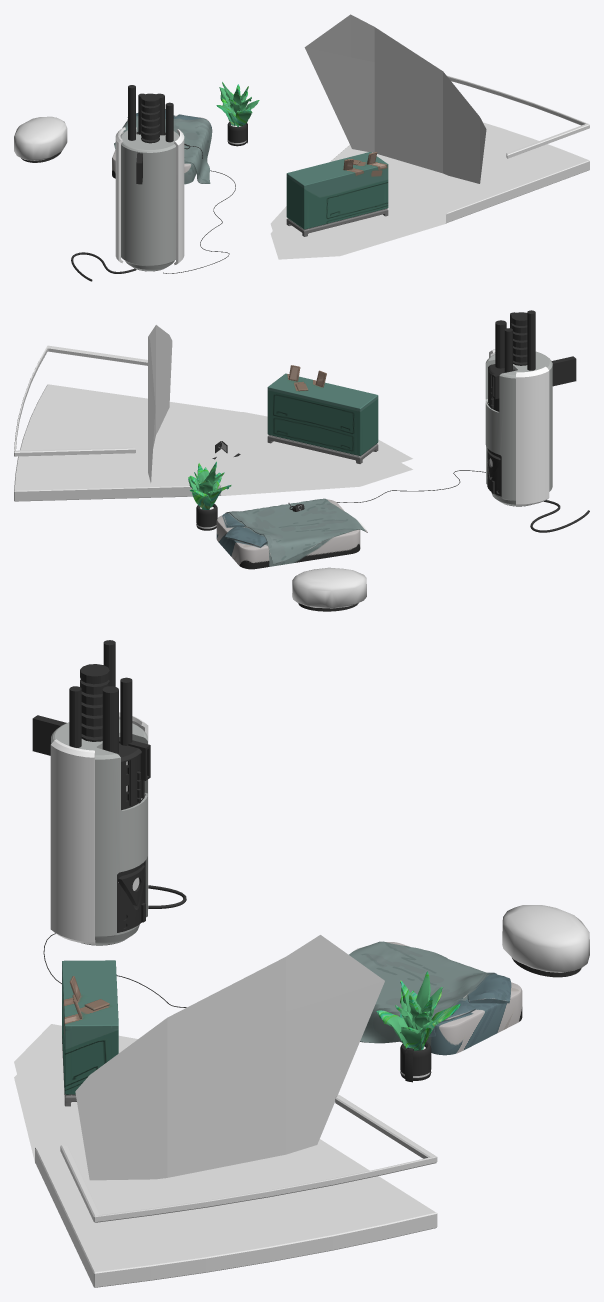
Rendered from Bedroom.fbx.
3 renders of one model, top to bottom at view 1: azimuth 30°, elevation 25°; view 2: azimuth 150°, elevation 25°; view 3: azimuth 270°, elevation 25°, orthographic. The views are drawn at different scales.
Visible parts, largest first — view 1: SM_BalconyDoor, SM_Balcony, SM_Mainframe, SM_Cabinet, SM_Poof.001, SM_Blanket, SM_Plant_Bedroom, SM_Bed; view 2: SM_Balcony, SM_Mainframe, SM_Cabinet, SM_Blanket, SM_Poof.001, SM_Bed, SM_BalconyDoor, SM_Plant_Bedroom, SM_Pillow2; view 3: SM_BalconyDoor, SM_Balcony, SM_Mainframe, SM_Cabinet, SM_Blanket, SM_Poof.001, SM_Plant_Bedroom, SM_Bed, SM_Pillow2.
Part boxes in pixels (x1=…): SM_BalconyDoor: x1=304, y1=14, x2=486, y2=183; SM_Balcony: x1=270, y1=75, x2=589, y2=259; SM_Mainframe: x1=115, y1=85, x2=184, y2=271; SM_Cabinet: x1=286, y1=152, x2=388, y2=236; SM_Poof.001: x1=14, y1=116, x2=67, y2=162; SM_Blanket: x1=114, y1=116, x2=212, y2=183; SM_Plant_Bedroom: x1=216, y1=82, x2=259, y2=146; SM_Bed: x1=112, y1=115, x2=208, y2=184; SM_Balcony: x1=14, y1=345, x2=412, y2=501; SM_Mainframe: x1=485, y1=310, x2=576, y2=506; SM_Cabinet: x1=267, y1=365, x2=378, y2=463; SM_Blanket: x1=225, y1=498, x2=367, y2=564; SM_Poof.001: x1=292, y1=567, x2=366, y2=611; SM_Bed: x1=216, y1=499, x2=360, y2=569; SM_BalconyDoor: x1=148, y1=325, x2=172, y2=482; SM_Plant_Bedroom: x1=188, y1=461, x2=231, y2=530; SM_Pillow2: x1=225, y1=526, x2=267, y2=547; SM_BalconyDoor: x1=75, y1=935, x2=384, y2=1180; SM_Balcony: x1=14, y1=1024, x2=437, y2=1287; SM_Mainframe: x1=32, y1=640, x2=150, y2=945; SM_Cabinet: x1=62, y1=960, x2=118, y2=1106; SM_Blanket: x1=349, y1=941, x2=496, y2=1043; SM_Poof.001: x1=502, y1=905, x2=589, y2=977; SM_Plant_Bedroom: x1=376, y1=971, x2=460, y2=1082; SM_Bed: x1=386, y1=942, x2=522, y2=1055; SM_Pillow2: x1=467, y1=974, x2=511, y2=1003.
Bounding box in the file's own units: 1177 × 427 × 746.
